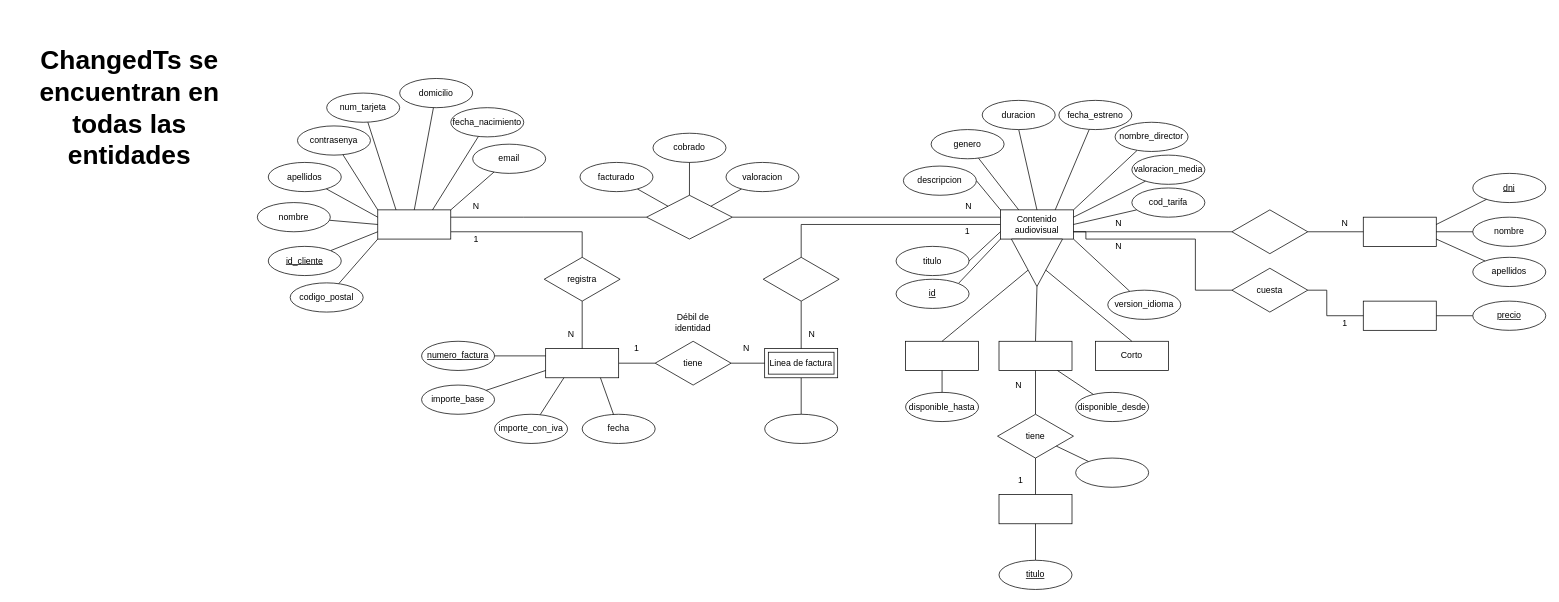
This 1559x602 diagram has some shape labels left out. Here are the shapes that lost their labels. From the top down, the centre of each, then its label:
the point at 414,224: Cliente
the point at 689,217: alquila
the point at 1269,231: actua
the point at 1399,231: Actor
the point at 800,279: referencia
the point at 1037,262: Exclusiva Total
the point at 1399,315: Tarifa
the point at 582,363: Factura
the point at 942,355: Pelicula
the point at 1035,355: Capitulo
the point at 801,428: num_linea
the point at 1112,472: temporada
the point at 1035,509: Serie
